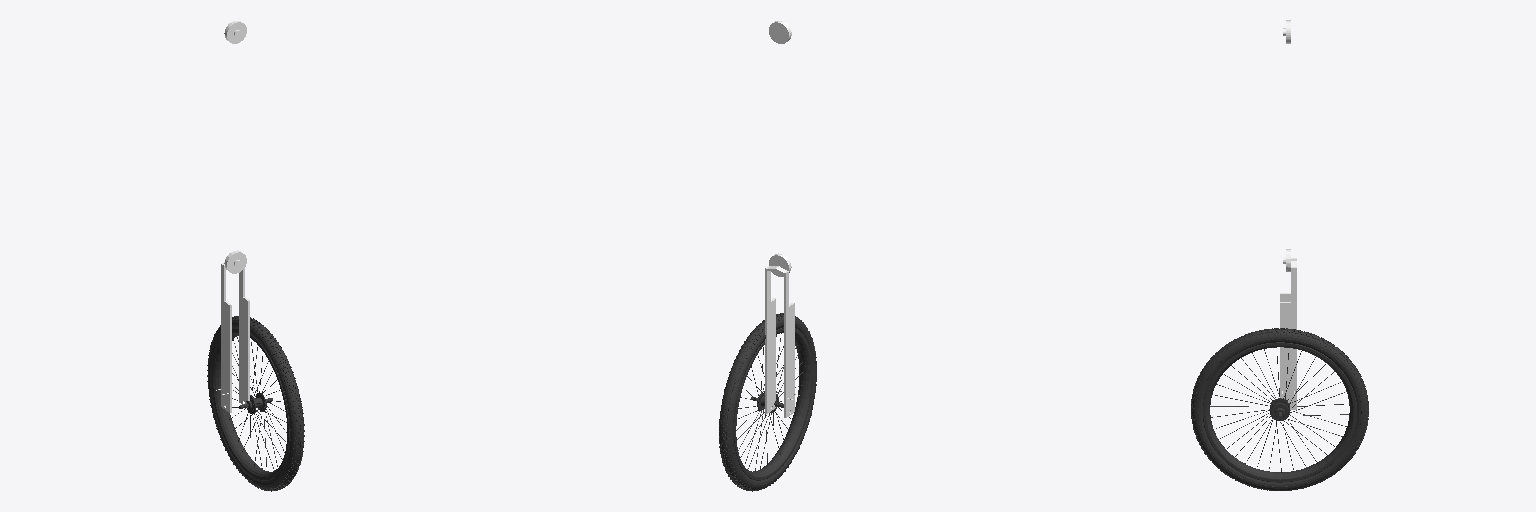
robot.urdf — mybot:
<?xml version="1.0" encoding="utf-8"?>
<!-- This URDF was automatically created by SolidWorks to URDF Exporter! Originally created by [author] ([email redacted]) 
     Commit Version: 1.6.0-4-g7f85cfe  Build Version: 1.6.7995.38578
     For more information, please see http://wiki.ros.org/sw_urdf_exporter -->
<robot
  name="mybot">
  <link
    name="base_link">
    <inertial>
      <origin
        xyz="-0.0381 0.781243430318438 0.0686240013778183"
        rpy="0 0 0" />
      <mass
        value="4.35888847422471" />
      <inertia
        ixx="0.900812820692112"
        ixy="-3.73080994308414E-17"
        ixz="-1.05638303205299E-18"
        iyy="0.0153992155175554"
        iyz="0.00500579292426746"
        izz="0.901626483533206" />
    </inertial>
    <visual>
      <origin
        xyz="0 0 0"
        rpy="0 0 0" />
      <geometry>
        <mesh
          filename="package://mybot/meshes/base_link.STL" />
      </geometry>
      <material
        name="">
        <color
          rgba="1 1 1 1" />
      </material>
    </visual>
    <collision>
      <origin
        xyz="0 0 0"
        rpy="0 0 0" />
      <geometry>
        <mesh
          filename="package://mybot/meshes/base_link.STL" />
      </geometry>
    </collision>
  </link>
  <link
    name="wheel_link">
    <inertial>
      <origin
        xyz="-1.42294466691506E-06 -1.333594974047E-05 0.0381192202177632"
        rpy="0 0 0" />
      <mass
        value="2.77972004609325" />
      <inertia
        ixx="0.130050859021303"
        ixy="8.46583718055322E-07"
        ixz="-7.43520984623089E-09"
        iyy="0.130057861578642"
        iyz="-7.77808806890628E-09"
        izz="0.258116555297694" />
    </inertial>
    <visual>
      <origin
        xyz="0 0 0"
        rpy="0 0 0" />
      <geometry>
        <mesh
          filename="package://mybot/meshes/wheel_link.STL" />
      </geometry>
      <material
        name="">
        <color
          rgba="0.294117647058824 0.294117647058824 0.294117647058824 1" />
      </material>
    </visual>
    <collision>
      <origin
        xyz="0 0 0"
        rpy="0 0 0" />
      <geometry>
        <mesh
          filename="package://mybot/meshes/wheel_link.STL" />
      </geometry>
    </collision>
  </link>
  <joint
    name="wheel_joint"
    type="continuous">
    <origin
      xyz="0 -0.07 0.01524"
      rpy="1.5708 -0.56941 -1.5708" />
    <parent
      link="base_link" />
    <child
      link="wheel_link" />
    <axis
      xyz="0 0 1" />
  </joint>
  <link
    name="fly_wheel_base_link">
    <inertial>
      <origin
        xyz="0 0 0.0107124010554089"
        rpy="0 0 0" />
      <mass
        value="0.148832951963815" />
      <inertia
        ixx="8.66608520214758E-05"
        ixy="1.91658315448597E-36"
        ixz="-1.07858581289291E-22"
        iyy="8.66608520214758E-05"
        iyz="-6.59185369722473E-21"
        izz="0.000160723143846874" />
    </inertial>
    <visual>
      <origin
        xyz="0 0 0"
        rpy="0 0 0" />
      <geometry>
        <mesh
          filename="package://mybot/meshes/fly_wheel_base_link.STL" />
      </geometry>
      <material
        name="">
        <color
          rgba="1 1 1 1" />
      </material>
    </visual>
    <collision>
      <origin
        xyz="0 0 0"
        rpy="0 0 0" />
      <geometry>
        <mesh
          filename="package://mybot/meshes/fly_wheel_base_link.STL" />
      </geometry>
    </collision>
  </link>
  <joint
    name="fly_wheel_base_joint"
    type="continuous">
    <origin
      xyz="-0.0381 -0.0265 1.6903"
      rpy="1.5708 0 0" />
    <parent
      link="base_link" />
    <child
      link="fly_wheel_base_link" />
    <axis
      xyz="0 0 1" />
  </joint>
  <link
    name="fly_wheel_link">
    <inertial>
      <origin
        xyz="-4.44089209850063E-16 0.0156857829210584 -6.66133814775094E-16"
        rpy="0 0 0" />
      <mass
        value="1.11385500158735" />
      <inertia
        ixx="0.00643849558471596"
        ixy="-1.05045856357348E-16"
        ixz="4.77048955893931E-18"
        iyy="0.0126918518681413"
        iyz="-9.13024697640613E-17"
        izz="0.00643849558471594" />
    </inertial>
    <visual>
      <origin
        xyz="0 0 0"
        rpy="0 0 0" />
      <geometry>
        <mesh
          filename="package://mybot/meshes/fly_wheel_link.STL" />
      </geometry>
      <material
        name="">
        <color
          rgba="0.792156862745098 0.819607843137255 0.933333333333333 1" />
      </material>
    </visual>
    <collision>
      <origin
        xyz="0 0 0"
        rpy="0 0 0" />
      <geometry>
        <mesh
          filename="package://mybot/meshes/fly_wheel_link.STL" />
      </geometry>
    </collision>
  </link>
  <joint
    name="fly_wheel_joint"
    type="continuous">
    <origin
      xyz="0 0 0"
      rpy="1.5708 0 -0.87474" />
    <parent
      link="fly_wheel_base_link" />
    <child
      link="fly_wheel_link" />
    <axis
      xyz="0 1 0" />
  </joint>
</robot>

--- Render facts (derived) ---
3 views of the same robot in one strip: view 1: azimuth 30°, elevation 25°; view 2: azimuth 150°, elevation 25°; view 3: azimuth 270°, elevation 25° (orthographic).
Robot: mybot — 4 links, 3 joints (3 continuous); root link base_link; default pose: every joint at zero.
Links seen in each view (by area): view 1: wheel_link, base_link; view 2: wheel_link, base_link; view 3: wheel_link, base_link.
Boxes of the visible links, x1,y1,x2,y2 form: wheel_link: (207, 316, 304, 491); base_link: (216, 250, 253, 412); wheel_link: (719, 313, 816, 491); base_link: (761, 253, 799, 417); wheel_link: (1191, 328, 1368, 490); base_link: (1280, 249, 1296, 409).
Bounding box of the posed robot: 0.2305 × 0.7329 × 2.09 m (x, y, z).
Meshes: 4 distinct files referenced, 3 mesh visuals loaded (3 binary STL); not drawn: 1 (reference not matched to a file when rendering).